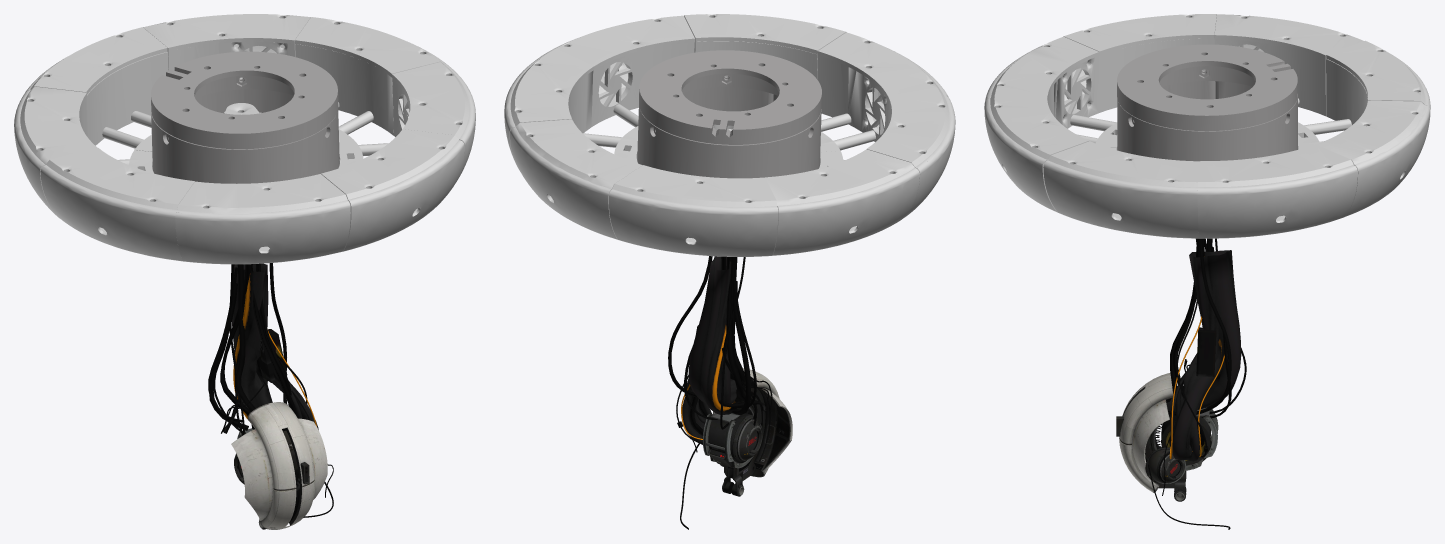
Rendered from thePodInTest.glb.
3 renders of one model, left to right at view 1: azimuth 30°, elevation 25°; view 2: azimuth 150°, elevation 25°; view 3: azimuth 270°, elevation 25°, orthographic. The views are drawn at different scales.
Parts seen in each view (by area): view 1: Object_7; view 2: Object_7; view 3: Object_7.
Boxes of the visible parts, box(x1,y1,x2,y2) form: Object_7: box(14, 14, 475, 529); Object_7: box(504, 14, 955, 529); Object_7: box(984, 14, 1430, 529).
Bounding box in the file's own units: 35.26 × 38.14 × 35.27.
Materials: 5 (3 with a texture image).
